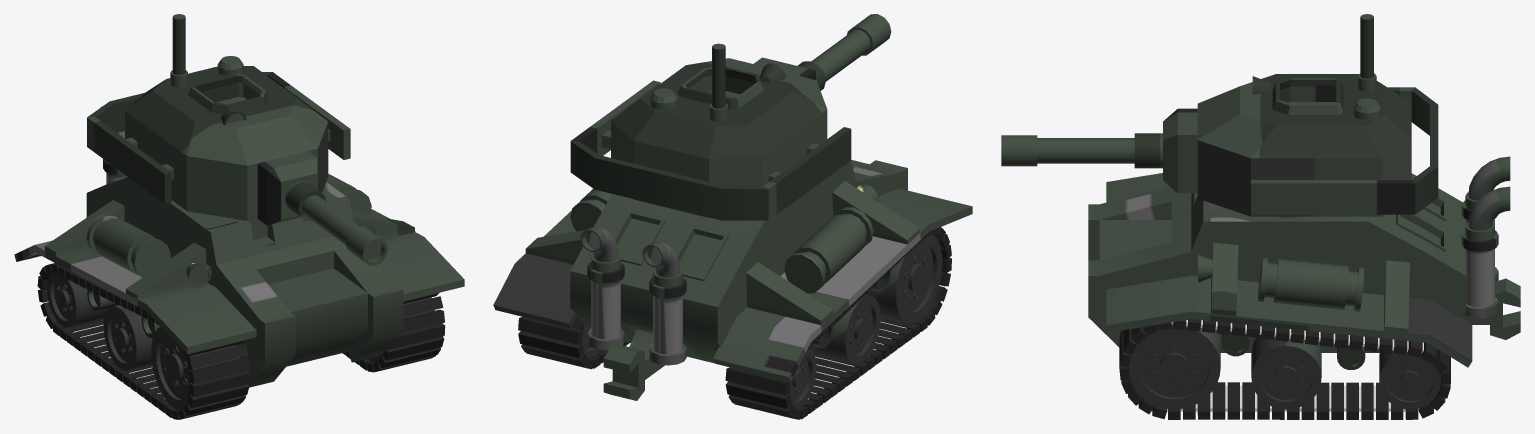
Rendered from 61_Tank.fbx.
3 views of the same model, side by side, from view 1: azimuth 30°, elevation 25°; view 2: azimuth 150°, elevation 25°; view 3: azimuth 270°, elevation 25° (orthographic). The views are drawn at different scales.
Visible parts, largest first — view 1: TankHead, TankBody, RightDuct, LeftDuct, WheelFront, Muzzle, WheelMiddle, WheelBack, RightTrack007, RightTrack006, RightTrack008, LeftTrack006 (+6 smaller); view 2: TankHead, TankBody, RightDuct, LeftDuct, GasRoad1, GasRoad2, WheelFront, WheelMiddle, Muzzle, WheelBack, LeftTrack031, RightTrack031 (+4 smaller); view 3: TankHead, TankBody, LeftDuct, WheelFront, WheelMiddle, GasRoad2, Muzzle, WheelBack, GasRoad1, Base, RightDuct, RollBack (+8 smaller).
Boxes of the visible parts, x1,y1,x2,y2 form: TankHead: (87,14,350,225); TankBody: (86,177,403,387); RightDuct: (14,200,256,354); LeftDuct: (326,174,464,301); WheelFront: (151,297,434,409); Muzzle: (302,195,388,265); WheelMiddle: (103,305,152,370); WheelBack: (47,272,108,327); RightTrack007: (188,357,250,383); RightTrack006: (189,371,250,397); RightTrack008: (186,344,248,369); LeftTrack006: (387,323,445,349); TankHead: (570,43,851,220); TankBody: (570,160,907,400); RightDuct: (713,181,972,381); LeftDuct: (493,188,611,328); GasRoad1: (642,242,686,365); GasRoad2: (580,227,624,350); WheelFront: (866,234,942,323); WheelMiddle: (809,294,880,364); Muzzle: (811,14,891,81); WheelBack: (572,326,816,409); LeftTrack031: (518,316,583,344); RightTrack031: (725,367,790,395); TankHead: (1134,14,1438,216); TankBody: (1088,173,1520,352); LeftDuct: (1106,242,1472,367); WheelFront: (1128,324,1220,408); WheelMiddle: (1251,335,1321,409); GasRoad2: (1461,186,1510,318); Muzzle: (1001,135,1134,166); WheelBack: (1379,350,1441,409); GasRoad1: (1461,156,1510,281); Base: (1167,320,1423,411); RightDuct: (1106,173,1168,202); RollBack: (1337,345,1365,369).
Size of the model in its own units: 1301 by 1380 by 1991.
